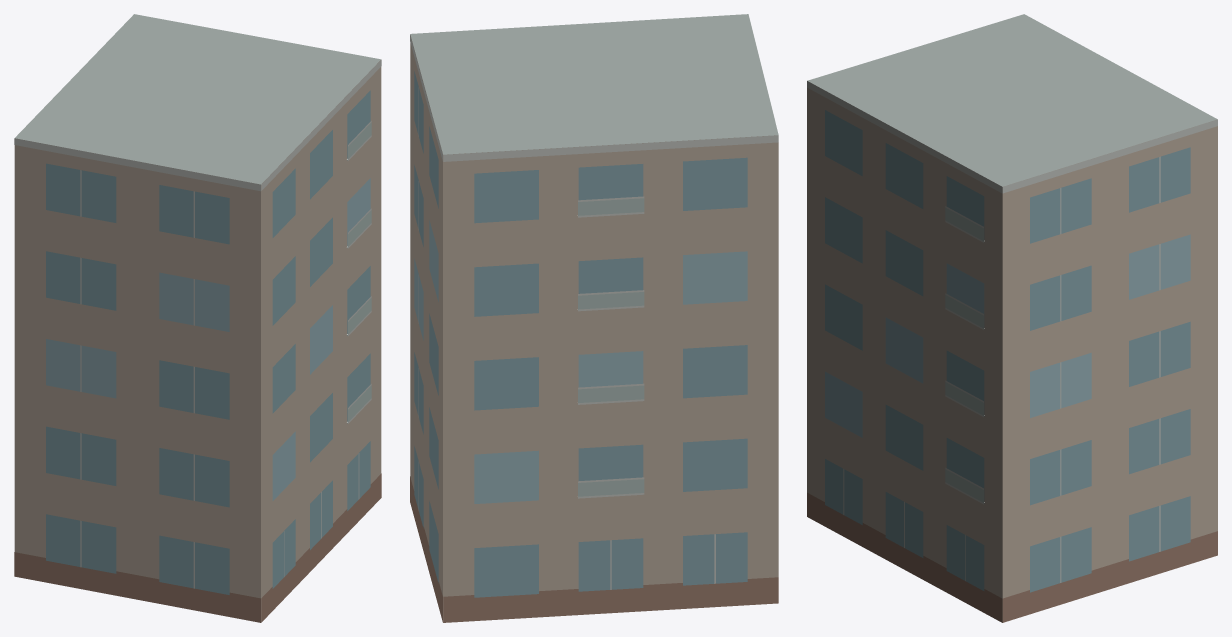
Rendered from survey-upis-32718439.glb.
3 views of the same model, side by side, from view 1: azimuth 30°, elevation 25°; view 2: azimuth 150°, elevation 25°; view 3: azimuth 270°, elevation 25° (orthographic). The views are drawn at different scales.
Parts seen in each view (by area): view 1: survey-upis-32718439.tmp; view 2: survey-upis-32718439.tmp; view 3: survey-upis-32718439.tmp.
Boxes of the visible parts, x1,y1,x2,y2 form: survey-upis-32718439.tmp: (14, 14, 381, 622); survey-upis-32718439.tmp: (410, 14, 778, 622); survey-upis-32718439.tmp: (807, 14, 1217, 622).
Bounding box in the file's own units: 13.35 × 15.7 × 13.41.
